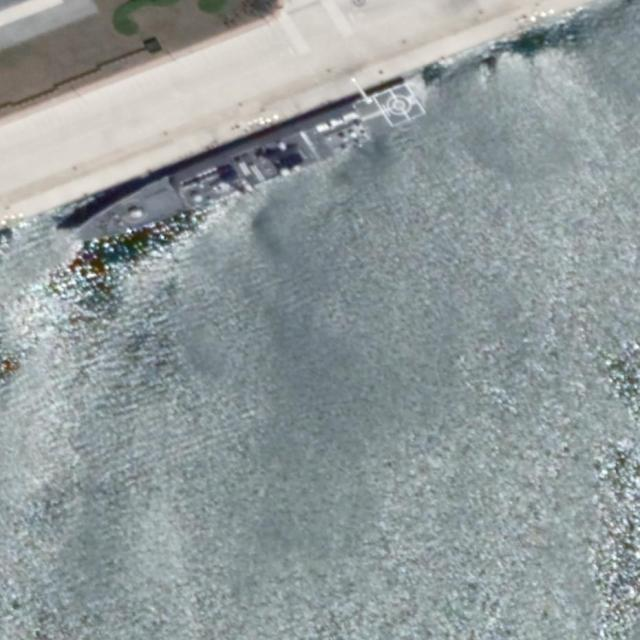Auxiliary Ships: (63, 76, 425, 266)
